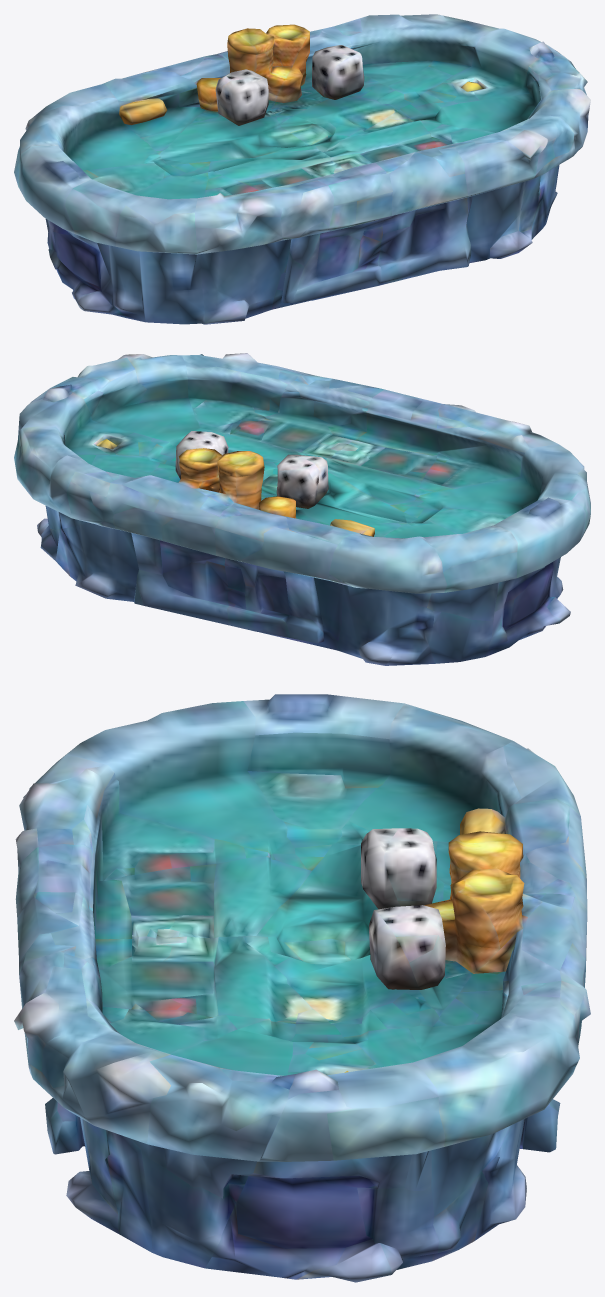
File: pv-craps.glb
3 views of the same model, one above another, from view 1: azimuth 30°, elevation 25°; view 2: azimuth 150°, elevation 25°; view 3: azimuth 270°, elevation 25° (orthographic). The views are drawn at different scales.
Parts seen in each view (by area): view 1: tripo_node_fadbe20b-b685-4378-83e1-a135d9061fb7; view 2: tripo_node_fadbe20b-b685-4378-83e1-a135d9061fb7; view 3: tripo_node_fadbe20b-b685-4378-83e1-a135d9061fb7.
Part boxes in pixels (left/top/right/bottom): tripo_node_fadbe20b-b685-4378-83e1-a135d9061fb7: left=14, top=14, right=590, bottom=324; tripo_node_fadbe20b-b685-4378-83e1-a135d9061fb7: left=14, top=353, right=590, bottom=665; tripo_node_fadbe20b-b685-4378-83e1-a135d9061fb7: left=14, top=694, right=590, bottom=1282.
Bounding box in the file's own units: 0.9814 × 0.2885 × 0.5772.
1 material, 1 textured.
